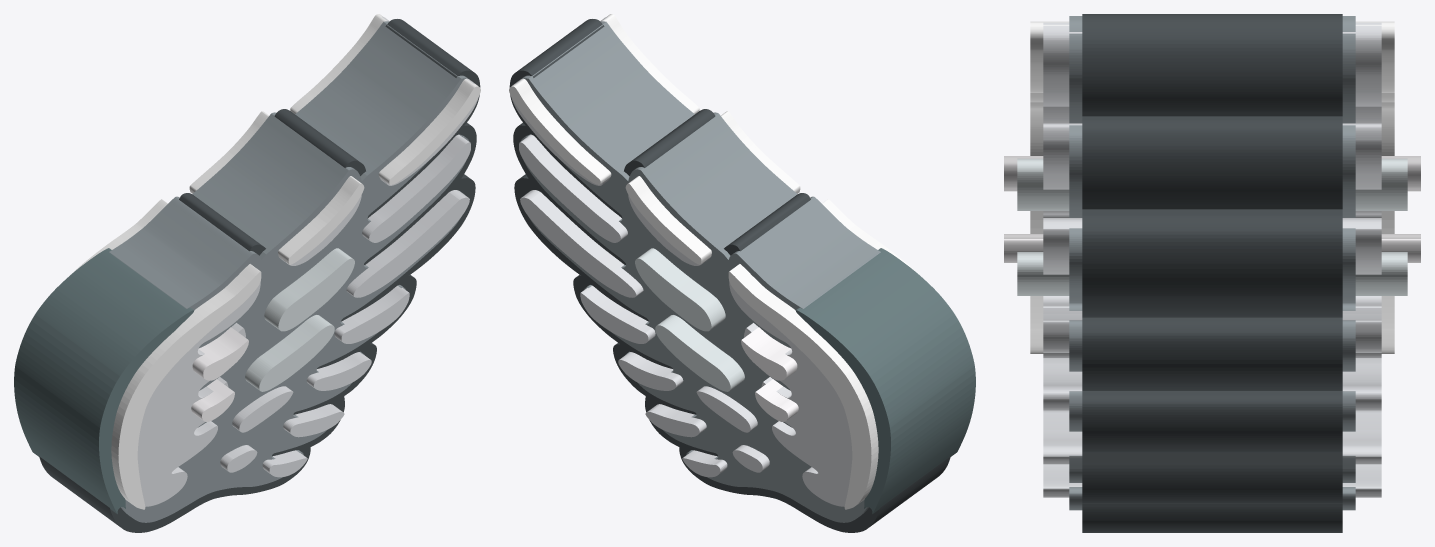
File: U+1FABD.obj
3 views of the same model, side by side, from view 1: azimuth 30°, elevation 25°; view 2: azimuth 150°, elevation 25°; view 3: azimuth 270°, elevation 25° (orthographic). The views are drawn at different scales.
Parts seen in each view (by area): view 1: U+1FABD_layer01_obj02, U+1FABD_layer02_obj00, U+1FABD_layer01_obj00, U+1FABD_layer01_obj01, U+1FABD_layer00_obj00, U+1FABD_layer03_obj10, U+1FABD_layer04_obj02, U+1FABD_layer04_obj01, U+1FABD_layer03_obj06, U+1FABD_layer03_obj04, U+1FABD_layer05_obj00, U+1FABD_layer04_obj00 (+12 smaller); view 2: U+1FABD_layer01_obj02, U+1FABD_layer02_obj00, U+1FABD_layer01_obj00, U+1FABD_layer01_obj01, U+1FABD_layer00_obj00, U+1FABD_layer03_obj10, U+1FABD_layer04_obj02, U+1FABD_layer04_obj01, U+1FABD_layer03_obj06, U+1FABD_layer03_obj04, U+1FABD_layer05_obj00, U+1FABD_layer04_obj00 (+12 smaller); view 3: U+1FABD_layer00_obj00, U+1FABD_layer01_obj02, U+1FABD_layer03_obj00, U+1FABD_layer05_obj00, U+1FABD_layer04_obj02, U+1FABD_layer03_obj04, U+1FABD_layer03_obj08, U+1FABD_layer05_obj01, U+1FABD_layer03_obj03, U+1FABD_layer03_obj06, U+1FABD_layer03_obj07, U+1FABD_layer04_obj01 (+5 smaller).
Boxes of the visible parts, x1,y1,x2,y2 form: U+1FABD_layer01_obj02: (121,21,469,522); U+1FABD_layer02_obj00: (14,248,194,513); U+1FABD_layer01_obj00: (191,112,361,485); U+1FABD_layer01_obj01: (109,196,261,508); U+1FABD_layer00_obj00: (39,19,480,532); U+1FABD_layer03_obj10: (137,280,260,506); U+1FABD_layer04_obj02: (71,199,261,509); U+1FABD_layer04_obj01: (290,14,480,184); U+1FABD_layer03_obj06: (346,190,469,297); U+1FABD_layer03_obj04: (362,134,470,242); U+1FABD_layer05_obj00: (264,248,354,331); U+1FABD_layer04_obj00: (189,111,364,264); U+1FABD_layer01_obj02: (520,21,868,522); U+1FABD_layer02_obj00: (795,248,975,513); U+1FABD_layer01_obj00: (628,112,797,485); U+1FABD_layer01_obj01: (728,196,880,508); U+1FABD_layer00_obj00: (509,19,950,532); U+1FABD_layer03_obj10: (729,280,852,506); U+1FABD_layer04_obj02: (728,199,918,509); U+1FABD_layer04_obj01: (509,14,699,184); U+1FABD_layer03_obj06: (520,190,643,297); U+1FABD_layer03_obj04: (519,134,627,242); U+1FABD_layer05_obj00: (635,248,725,331); U+1FABD_layer04_obj00: (625,111,800,264); U+1FABD_layer00_obj00: (1082,14,1342,532); U+1FABD_layer01_obj02: (1069,16,1355,510); U+1FABD_layer03_obj00: (1043,22,1381,106); U+1FABD_layer05_obj00: (1017,158,1407,210); U+1FABD_layer04_obj02: (1030,102,1394,353); U+1FABD_layer03_obj04: (1043,123,1381,189); U+1FABD_layer03_obj08: (1043,410,1381,464); U+1FABD_layer05_obj01: (1017,252,1407,295); U+1FABD_layer03_obj03: (1043,358,1381,410); U+1FABD_layer03_obj06: (1043,218,1381,274); U+1FABD_layer03_obj07: (1043,308,1381,352); U+1FABD_layer04_obj01: (1030,21,1394,92).
Bounding box in the file's own units: 0.317 × 0.2992 × 0.16.
